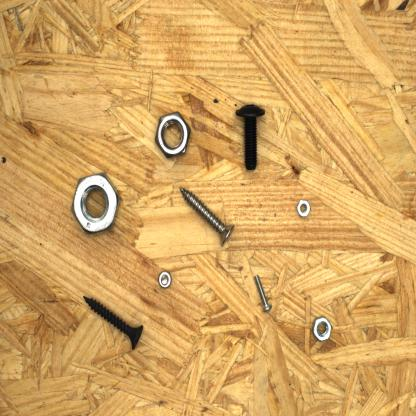screw: (81, 289, 148, 352), (176, 182, 238, 247), (231, 99, 269, 175), (250, 272, 274, 315), (157, 268, 172, 291)
